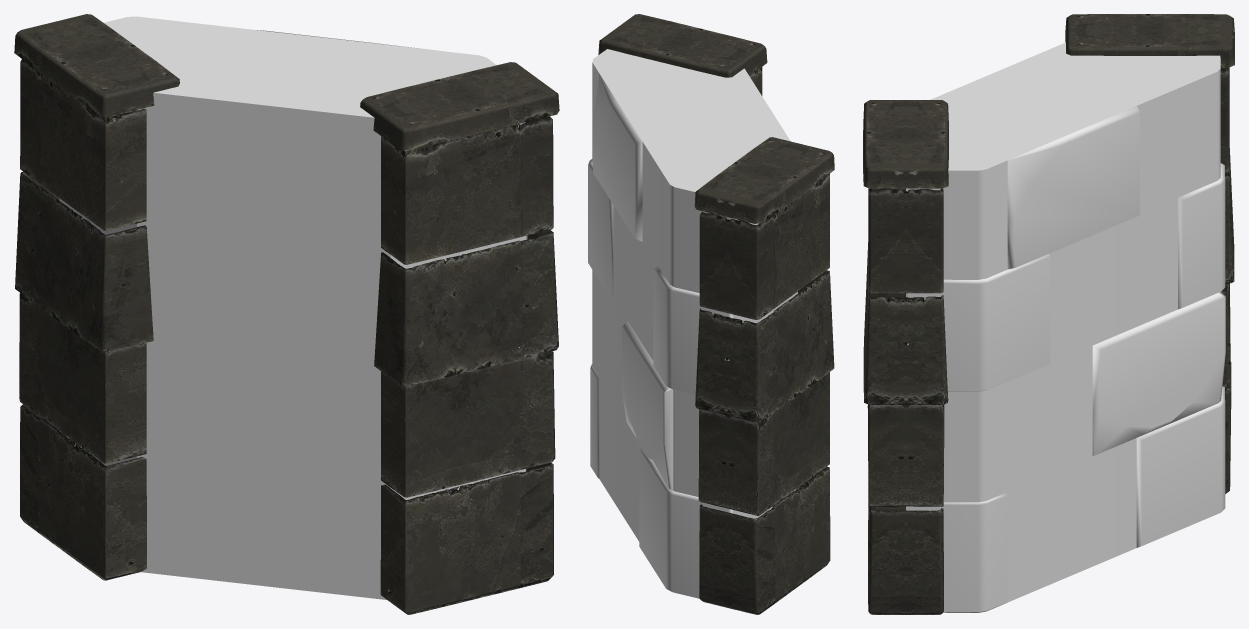
The picture shows the model from 3 angles, left to right: view 1: azimuth 30°, elevation 25°; view 2: azimuth 150°, elevation 25°; view 3: azimuth 270°, elevation 25°; orthographic projection. The views are drawn at different scales.
Visible parts, largest first — view 1: SM_Stepout_Corner_4x6_01_LOD0; view 2: SM_Stepout_Corner_4x6_01_LOD0; view 3: SM_Stepout_Corner_4x6_01_LOD0.
Boxes of the visible parts, left/top/right/bottom form: SM_Stepout_Corner_4x6_01_LOD0: left=14, top=14, right=559, bottom=614; SM_Stepout_Corner_4x6_01_LOD0: left=588, top=14, right=834, bottom=614; SM_Stepout_Corner_4x6_01_LOD0: left=863, top=14, right=1234, bottom=614.
Size of the model in its own units: 4.57 by 6.1 by 4.57.
Materials: 2 (1 with a texture image).
